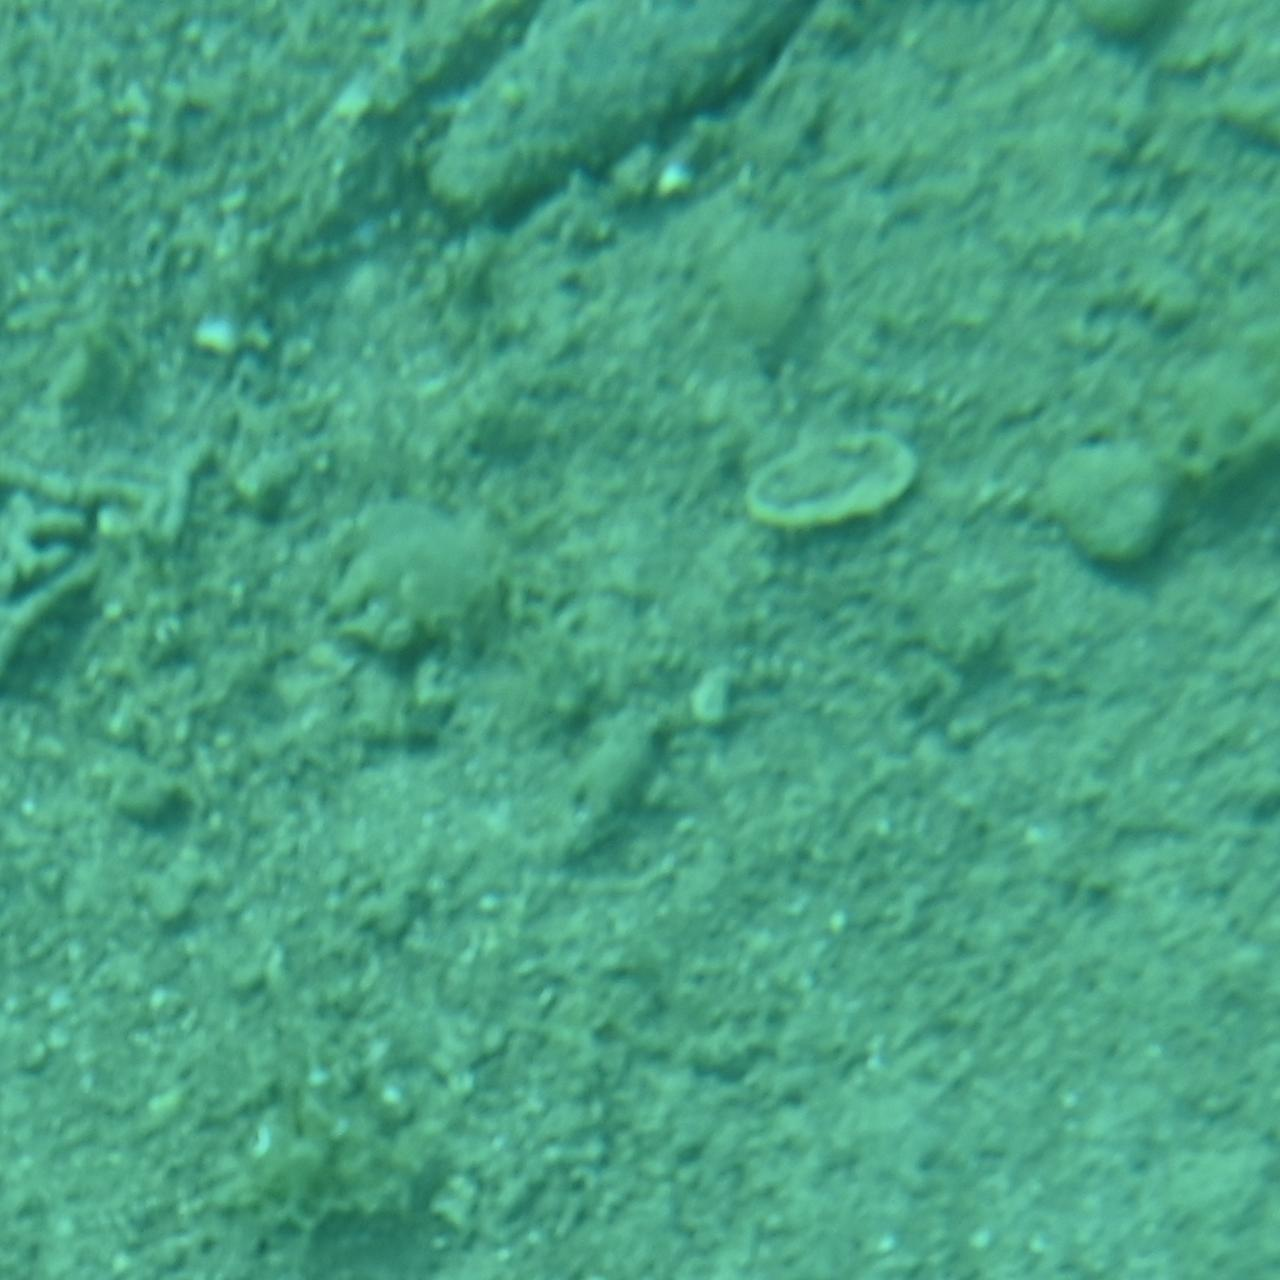Holothuria tubulosa: (430, 0, 850, 245)
